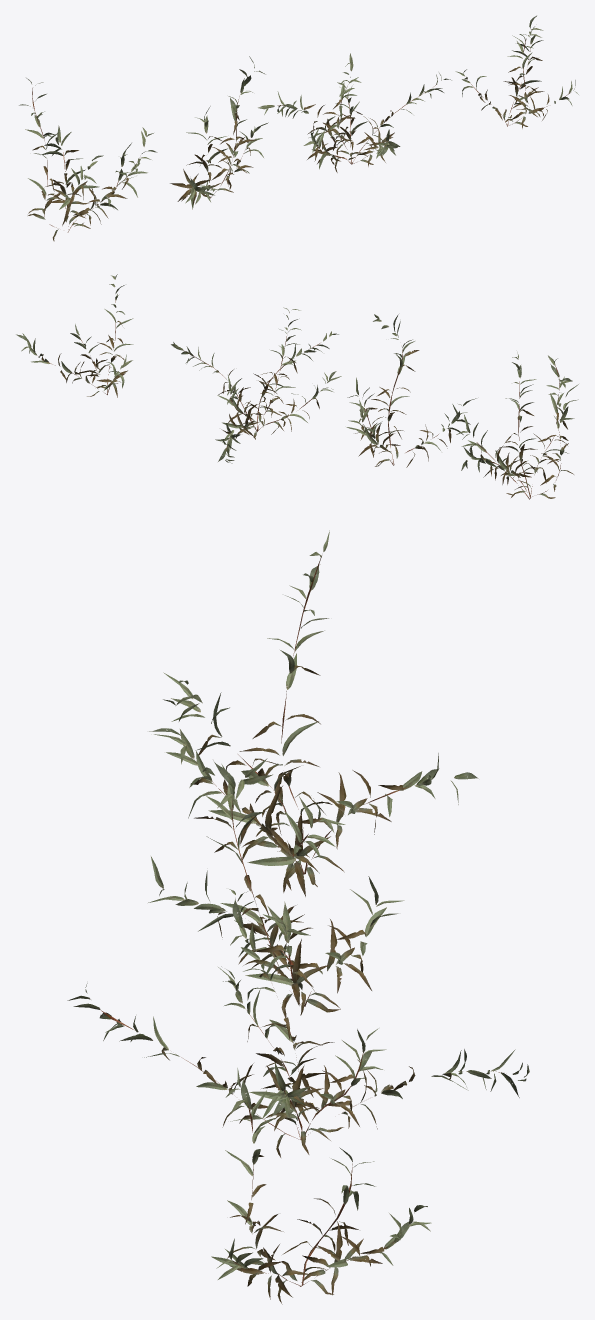
The model's file is shrub_02.light.glb.
3 views of the same model, one above another, from view 1: azimuth 30°, elevation 25°; view 2: azimuth 150°, elevation 25°; view 3: azimuth 270°, elevation 25° (orthographic). The views are drawn at different scales.
Visible parts, largest first — view 1: shrub_02_c, shrub_02_a, shrub_02_b, shrub_02_d; view 2: shrub_02_c, shrub_02_a, shrub_02_b, shrub_02_d; view 3: shrub_02_a, shrub_02_c, shrub_02_b, shrub_02_d.
Boxes of the visible parts, x1=… form: shrub_02_c: x1=258, y1=53, x2=451, y2=172; shrub_02_a: x1=19, y1=78, x2=157, y2=241; shrub_02_b: x1=170, y1=56, x2=268, y2=209; shrub_02_d: x1=455, y1=15, x2=578, y2=128; shrub_02_c: x1=171, y1=307, x2=341, y2=463; shrub_02_a: x1=456, y1=352, x2=578, y2=499; shrub_02_b: x1=346, y1=314, x2=476, y2=467; shrub_02_d: x1=16, y1=274, x2=133, y2=397; shrub_02_a: x1=149, y1=530, x2=478, y2=896; shrub_02_c: x1=67, y1=889, x2=529, y2=1157; shrub_02_b: x1=148, y1=758, x2=404, y2=1017; shrub_02_d: x1=211, y1=1068, x2=431, y2=1304.
Size of the model in its own units: 2 by 0.5618 by 0.7548.
1 material, 1 textured.
